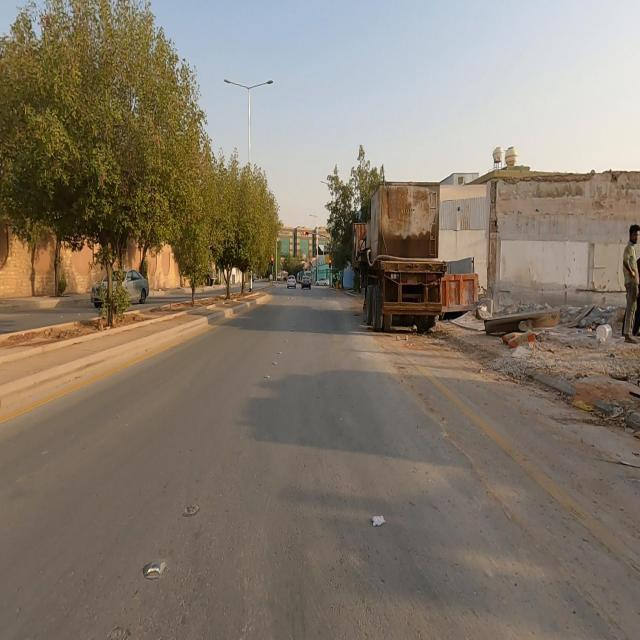debris: (444, 232, 592, 410), (537, 246, 640, 402)
